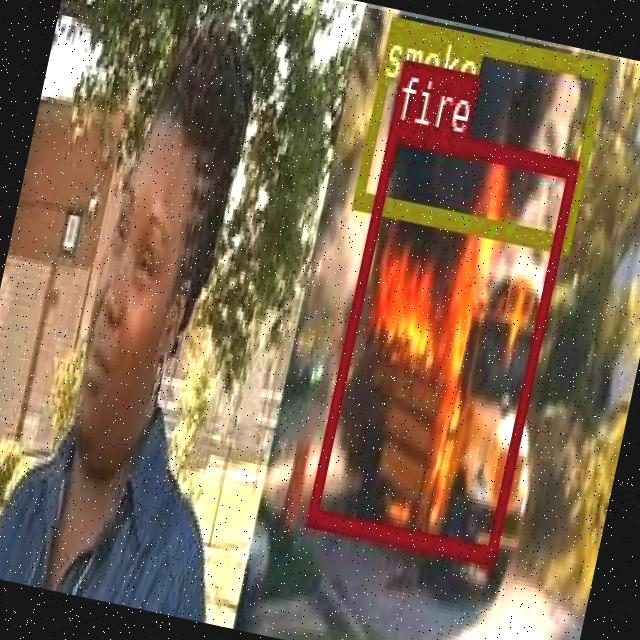fire: (306, 119, 576, 560)
smoke: (350, 14, 606, 248)
